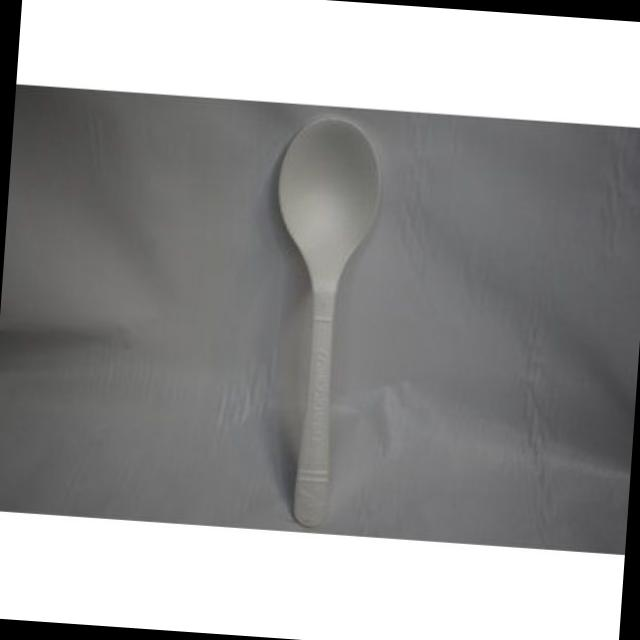spoon: (243, 110, 389, 534)
